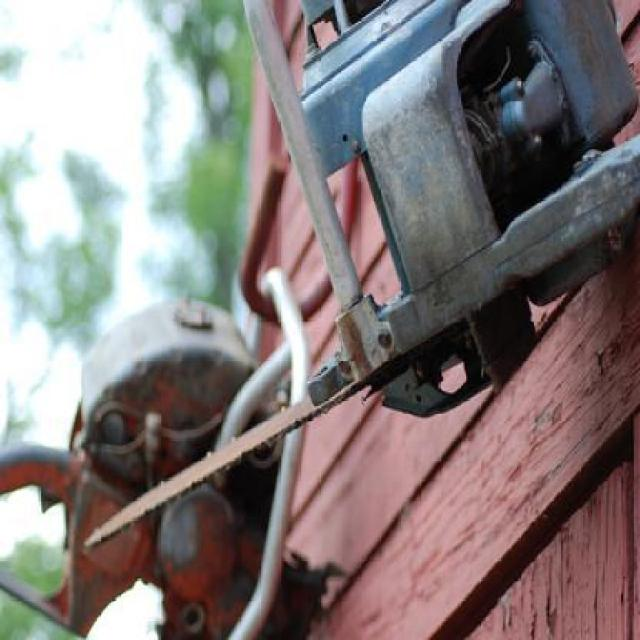Chainsaw: (78, 0, 639, 562)
